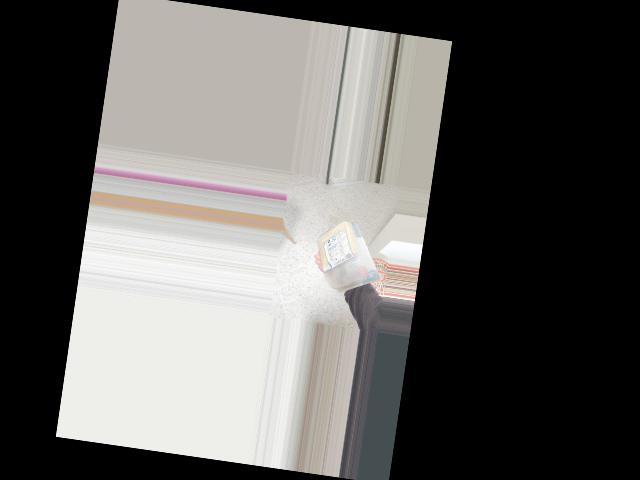cheese: (304, 211, 391, 301)
